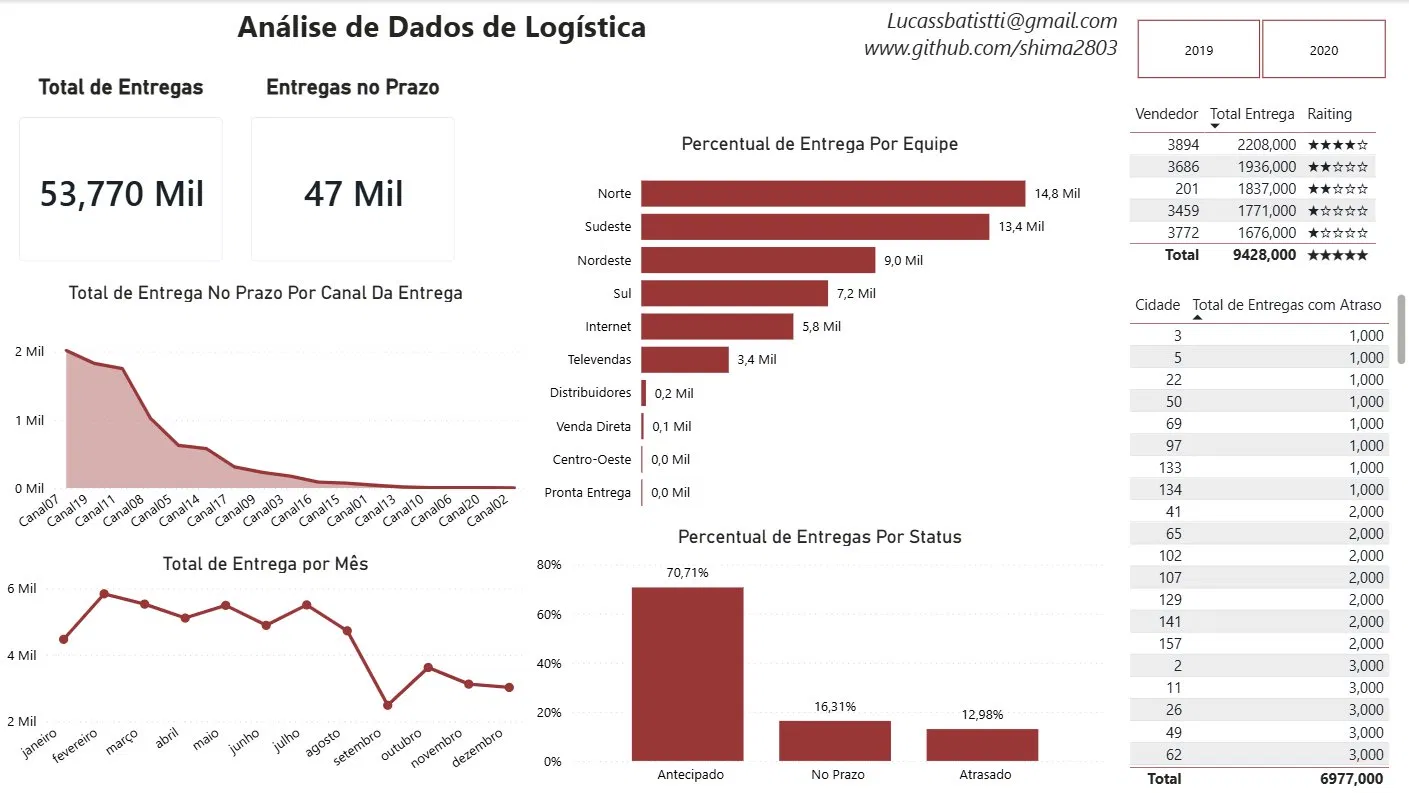

The dashboard page shown, as its layout file describes it:
{"tool":"powerbi","page":{"name":"Overview","canvas":[1280,720],"ordinal":0},"visuals":[{"type":"areaChart","title":"Total de Entrega No Prazo Por Canal Da Entrega","fields":{"Category":["Logistica.Canal_Entrega"],"Y":["Medidas.TotalEntregas"]},"box":[0,254.8,481.5,245.7],"z":0},{"type":"clusteredBarChart","title":"Percentual de Entrega Por Equipe","fields":{"Category":["Logistica.Equipe_Entrega"],"Y":["Medidas.TotalEntregas"]},"box":[481.5,119.7,524.1,356.4],"z":1000},{"type":"lineChart","title":"Total de Entrega por Mês","fields":{"Category":["Logistica.Data_Entrega_Realizada.Variation.Hierarquia de datas.Mês"],"Y":["Medidas.TotalEntregas"]},"box":[0,500.6,481.5,219.4],"z":2000},{"type":"tableEx","fields":{"Values":["Logistica.ID_Vendedor","Medidas.TotalEntregas","Medidas.Raiting"]},"box":[1018.3,88,262.1,173.2],"z":3000},{"type":"tableEx","fields":{"Values":["Logistica.ID_Cidade","Medidas.TotalEntregas"]},"box":[1018.3,261.2,262.1,458.8],"z":4000},{"type":"columnChart","title":"Percentual de Entregas Por Status","fields":{"Category":["Logistica.Status_Entrega"],"Y":["Medidas.TotalEntregas"]},"box":[481.5,476.1,524.1,243.9],"z":5000},{"type":"cardVisual","title":"Total de Entregas","fields":{"Data":["Medidas.TotalEntregas"]},"box":[0,67.1,219.4,187.7],"z":6000},{"type":"cardVisual","title":"Entregas no Prazo","fields":{"Data":["Medidas.TotalEntregasPrazo"]},"box":[210.4,67.1,219.4,187.7],"z":7000},{"type":"textbox","box":[168.7,0,464.3,59.8],"z":8000},{"type":"slicer","fields":{"Values":["Logistica.Data_Entrega_Realizada.Variation.Hierarquia de datas.Ano"]},"box":[1005.6,10.9,274.8,67.1],"z":9000},{"type":"textbox","box":[758.1,0,260.3,78],"z":10000}]}

Visuals, with their boxes in screenshot pixels (x1, y1, x2, y2), scaled from the page's 1280x720 canvas onto the 1409x793 screenshot:
"Total de Entrega No Prazo Por Canal Da Entrega" areaChart: 0, 281, 530, 551
"Percentual de Entrega Por Equipe" clusteredBarChart: 530, 132, 1107, 524
"Total de Entrega por Mês" lineChart: 0, 551, 530, 792
tableEx - Logistica.ID_Vendedor x Medidas.TotalEntregas: 1121, 97, 1408, 288
tableEx - Logistica.ID_Cidade x Medidas.TotalEntregas: 1121, 288, 1408, 792
"Percentual de Entregas Por Status" columnChart: 530, 524, 1107, 792
"Total de Entregas" cardVisual: 0, 74, 242, 281
"Entregas no Prazo" cardVisual: 232, 74, 473, 281
textbox: 186, 0, 697, 66
slicer - Logistica.Data_Entrega_Realizada.Variation.Hierarquia de datas.Ano: 1107, 12, 1408, 86
textbox: 835, 0, 1121, 86
